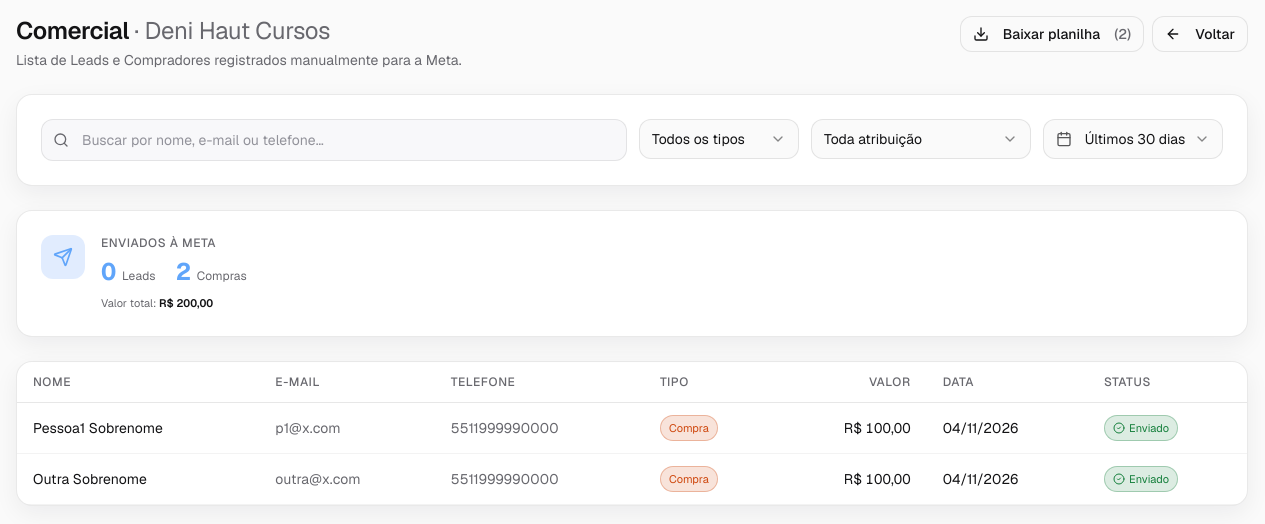
Test case: a planilha do Comercial › a planilha respeita a BUSCA — leva o que está na tela, não o acervo
Later steps or results of the test are not shown.
Check: the button "Baixar planilha (2)" is shown, box left=960, top=16, right=1144, bottom=52
Type "outra" into the field with placeholder "Buscar por nome, e-mail ou telefone…" at (334, 140), box left=41, top=119, right=627, bottom=161
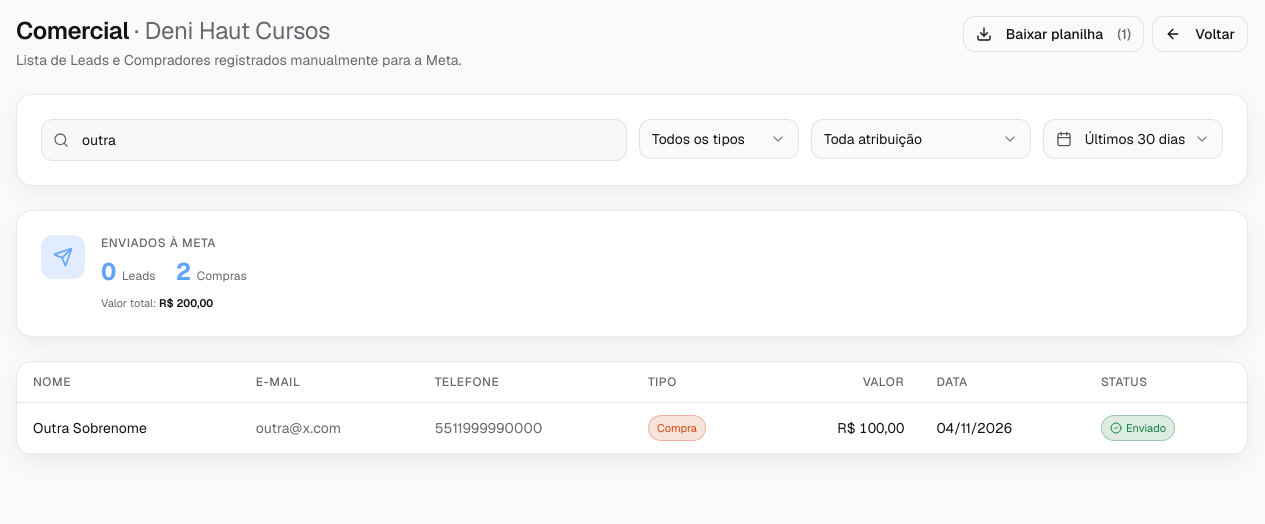
Check: the button "Baixar planilha (1)" is shown, box left=963, top=16, right=1144, bottom=52
